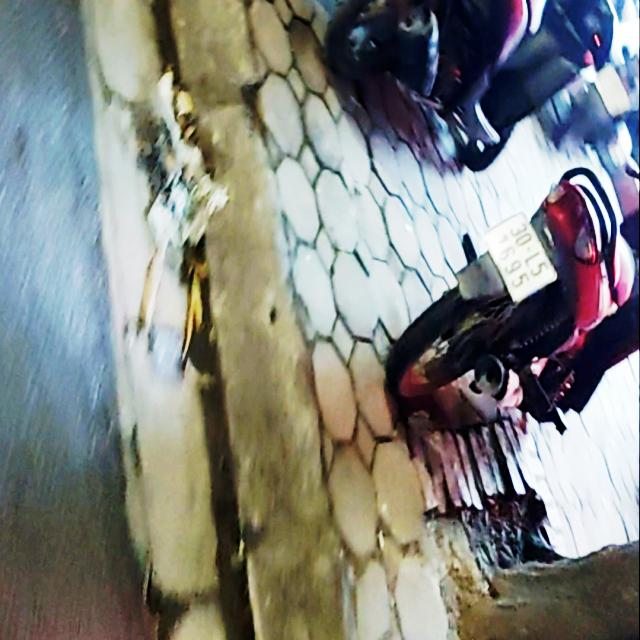license_plate: (480, 209, 562, 308)
